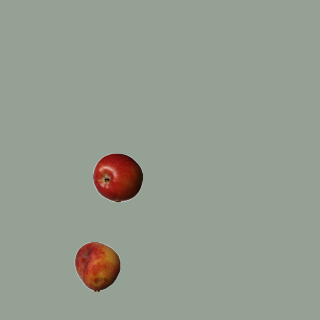Apple Braeburn: (92, 152, 142, 202)
Peach: (72, 241, 122, 291)
